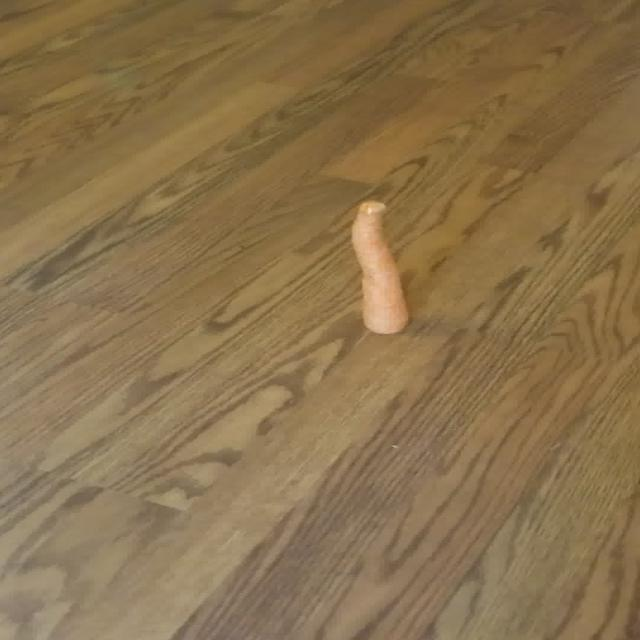carrot: (351, 201, 409, 334)
